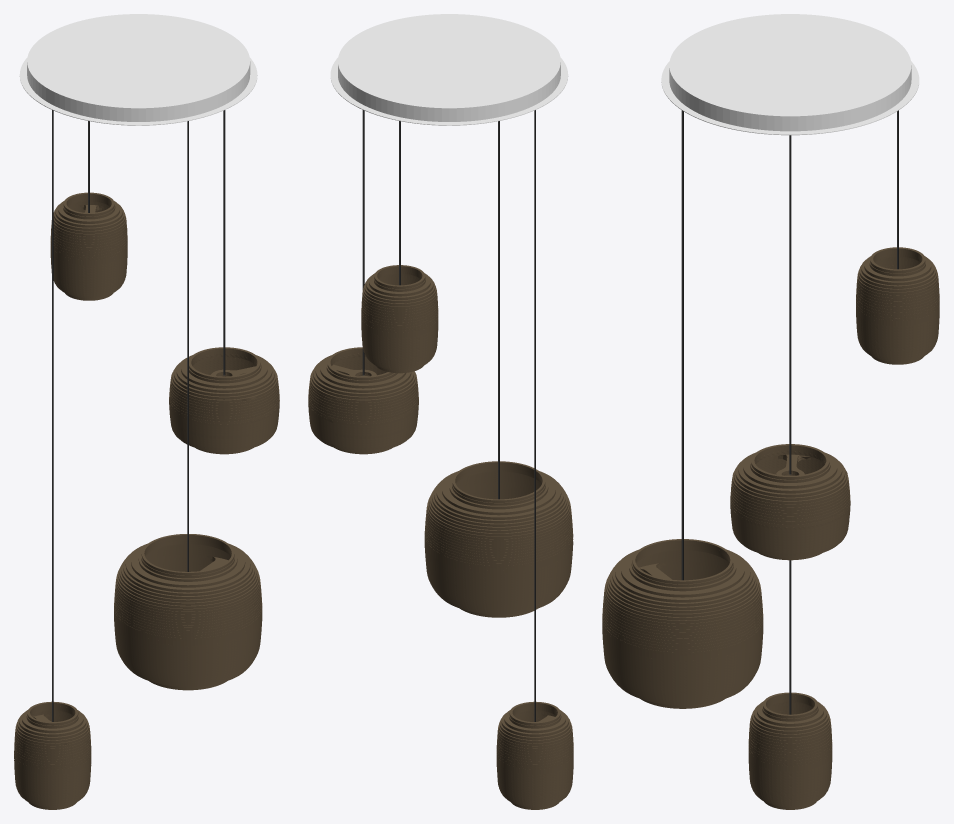
3 views of the same model, side by side, from view 1: azimuth 30°, elevation 25°; view 2: azimuth 150°, elevation 25°; view 3: azimuth 270°, elevation 25° (orthographic). The views are drawn at different scales.
Size of the model in its own units: 0.7375 by 2 by 0.7847.
